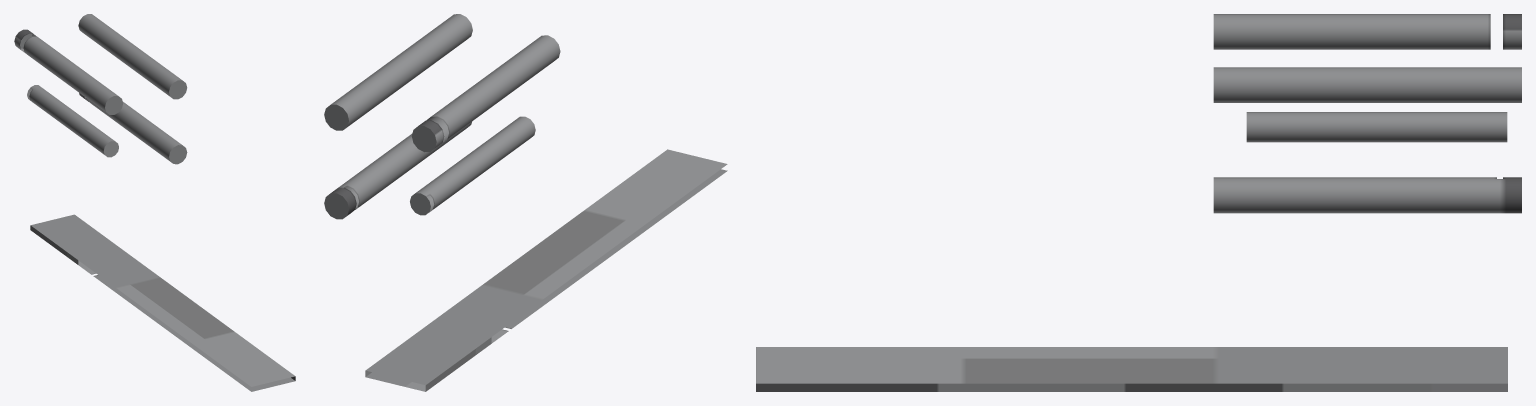
3 views of the same model, side by side, from view 1: azimuth 30°, elevation 25°; view 2: azimuth 150°, elevation 25°; view 3: azimuth 270°, elevation 25° (orthographic). The views are drawn at different scales.
Bounding box in the file's own units: 0.5271 × 1.21 × 2.5.
